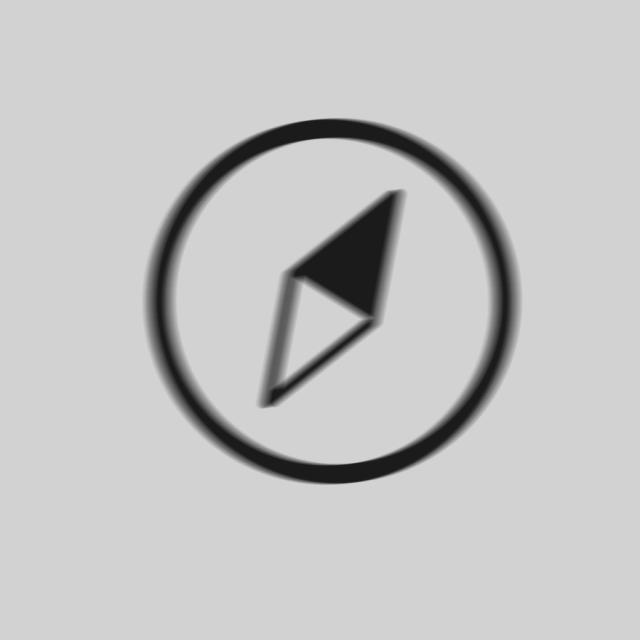compass: (132, 112, 533, 501)
